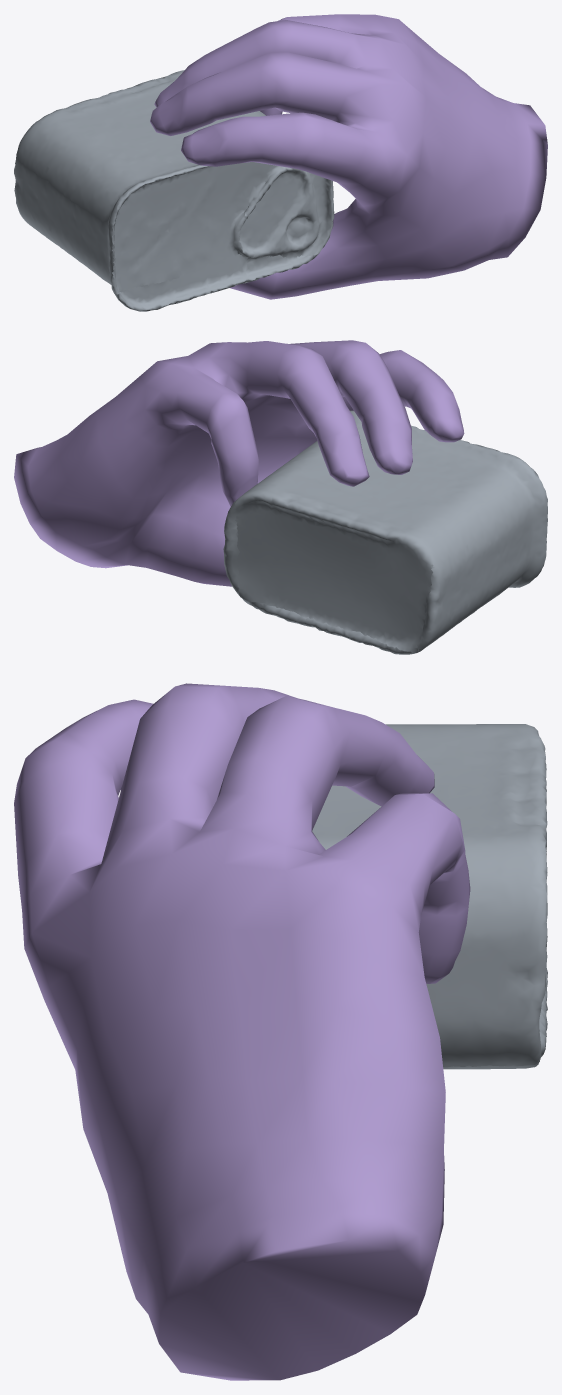
File: ours_meat_can.glb
The picture shows the model from 3 angles, top to bottom: view 1: azimuth 30°, elevation 25°; view 2: azimuth 150°, elevation 25°; view 3: azimuth 270°, elevation 25°; orthographic projection. The views are drawn at different scales.
Bounding box in the file's own units: 0.2146 × 0.1172 × 0.1117.
